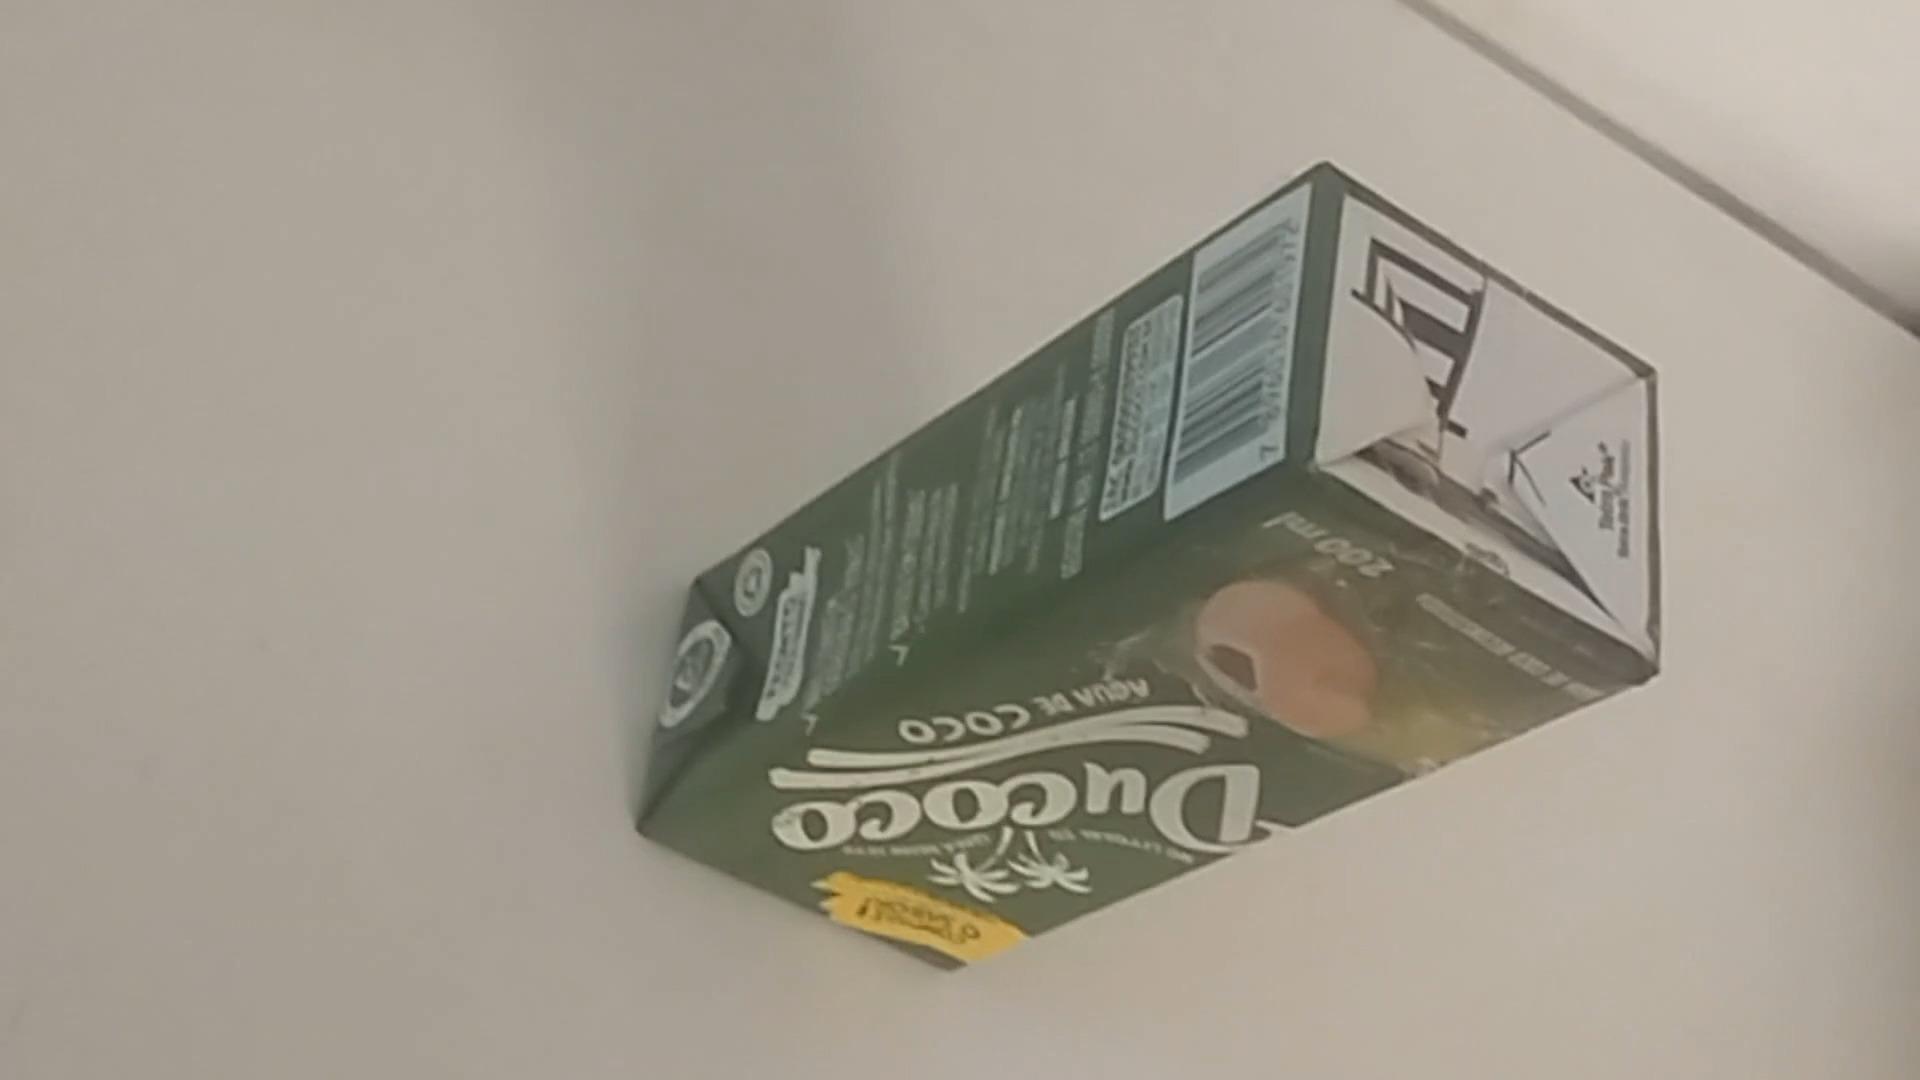coco: (645, 162, 1660, 968)
